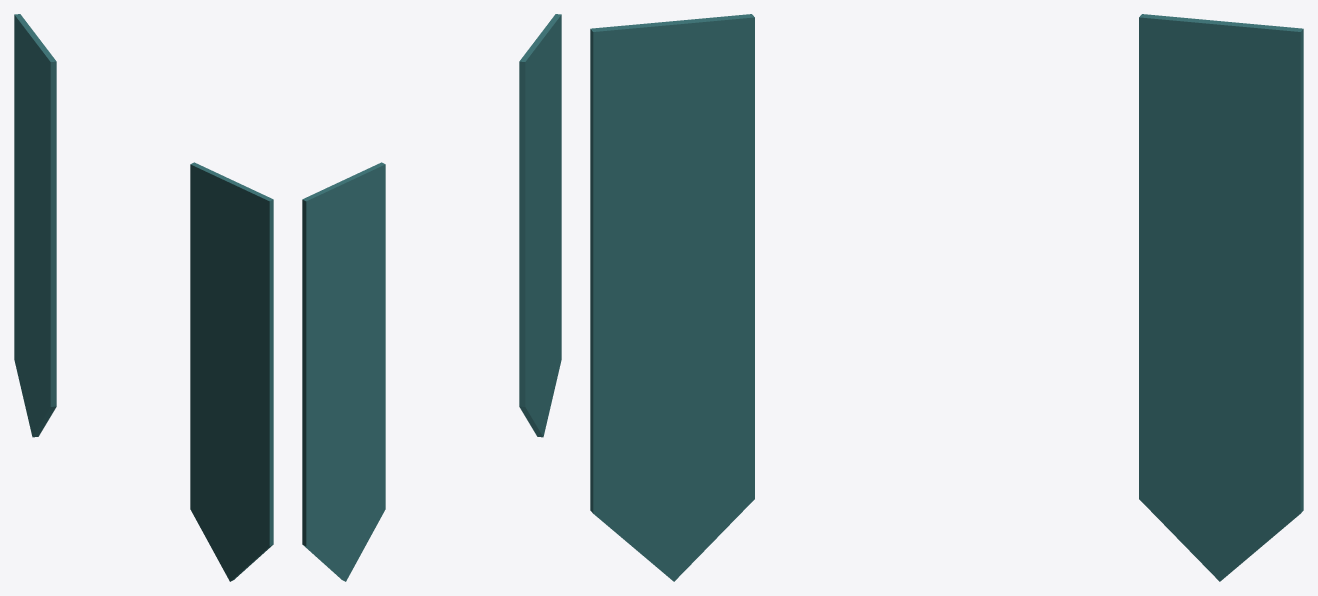
The model's file is Witch_Flag_Short.fbx.
3 renders of one model, left to right at view 1: azimuth 30°, elevation 25°; view 2: azimuth 150°, elevation 25°; view 3: azimuth 270°, elevation 25°, orthographic. The views are drawn at different scales.
Parts seen in each view (by area): view 1: Flag_entrance; view 2: Flag_entrance; view 3: Flag_entrance.
Part boxes in pixels (x1,y1,x2,y2): Flag_entrance: (14,14,273,581); Flag_entrance: (302,14,561,581); Flag_entrance: (590,14,1303,581).
Bounding box in the file's own units: 2.55 × 36.71 × 42.6.
